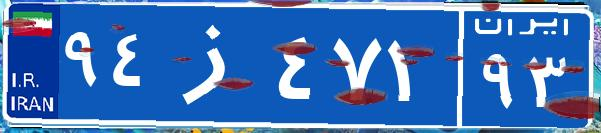1: (385, 28, 445, 110)
3: (525, 38, 570, 115)
4: (273, 28, 330, 110), (110, 28, 158, 105)
7: (330, 28, 385, 110)
9: (57, 26, 110, 107), (475, 38, 525, 113)
ز: (158, 15, 273, 115)
